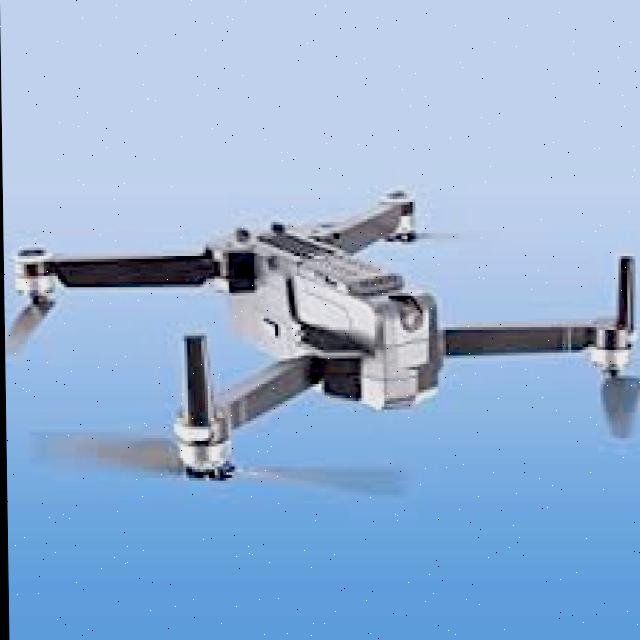drone: (2, 172, 640, 536)
